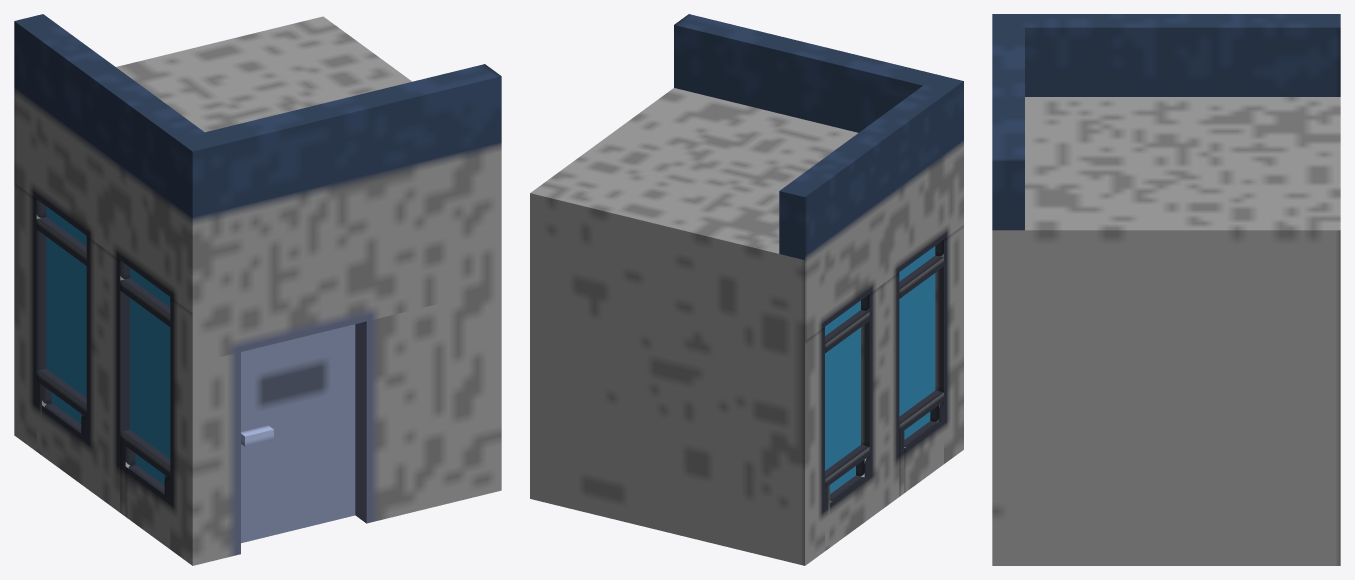
The model's file is BUDYNEK_MAŁY_DZWI.dae.
3 views of the same model, side by side, from view 1: azimuth 30°, elevation 25°; view 2: azimuth 150°, elevation 25°; view 3: azimuth 270°, elevation 25° (orthographic). The views are drawn at different scales.
Visible parts, largest first — view 1: Content; view 2: Content; view 3: Content.
Boxes of the visible parts, bbox=[...] form: Content: bbox=[14, 14, 501, 565]; Content: bbox=[530, 14, 963, 565]; Content: bbox=[992, 14, 1340, 565].
Size of the model in its own units: 32 by 41 by 32.
Materials: 1 (1 with a texture image).
